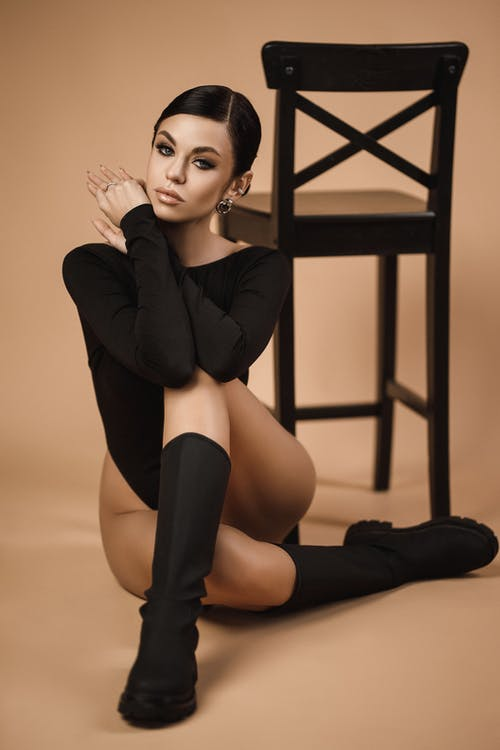person: (140, 82, 260, 228)
